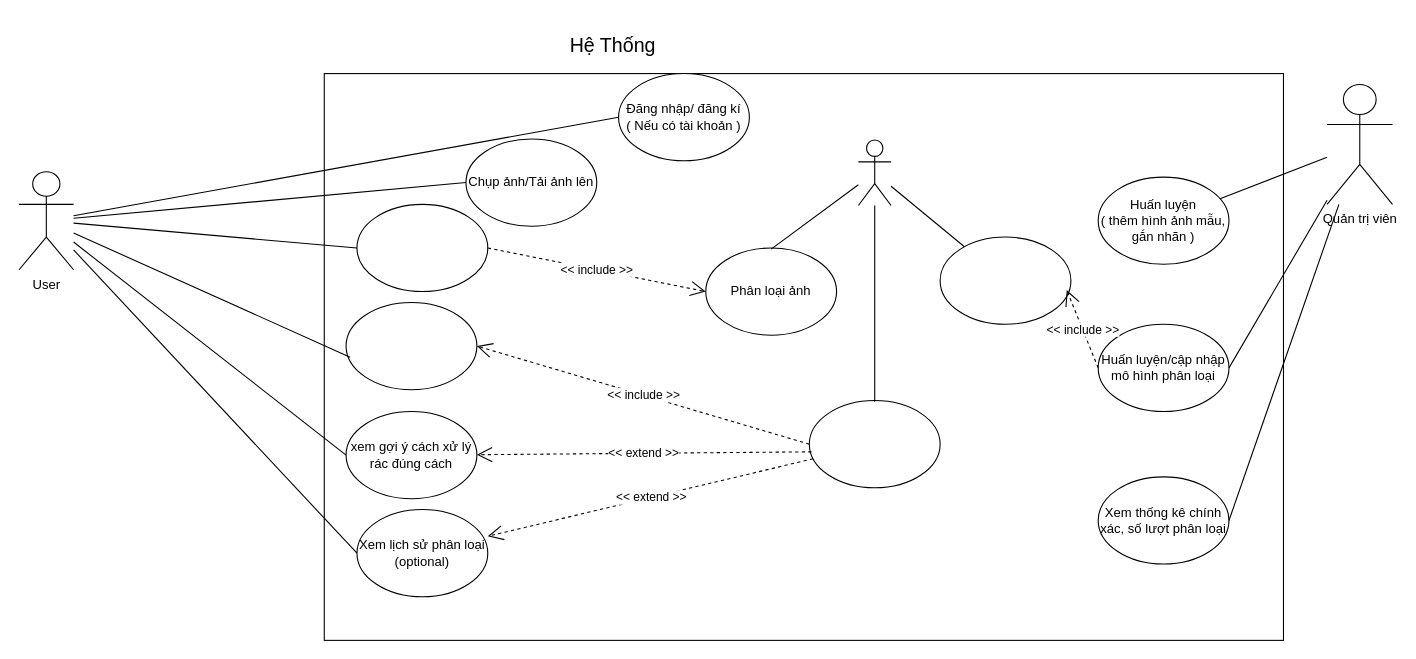
The diagram is 1416 pixels wide and 659 high, and some of its shapes have lost their labels. Here are the shapes that lost their labels. From the top down, the centre of each, then its label:
At [874,172]: "AI Sýtem".
At [422,247]: "Gửi ảnh để phân tích".
At [1005,280]: "Cập nhập dữ liệu huấn luyện".
At [411,345]: "Nhận kết quả phân loại rác".
At [874,443]: "Trả về kết quả phân loại".
